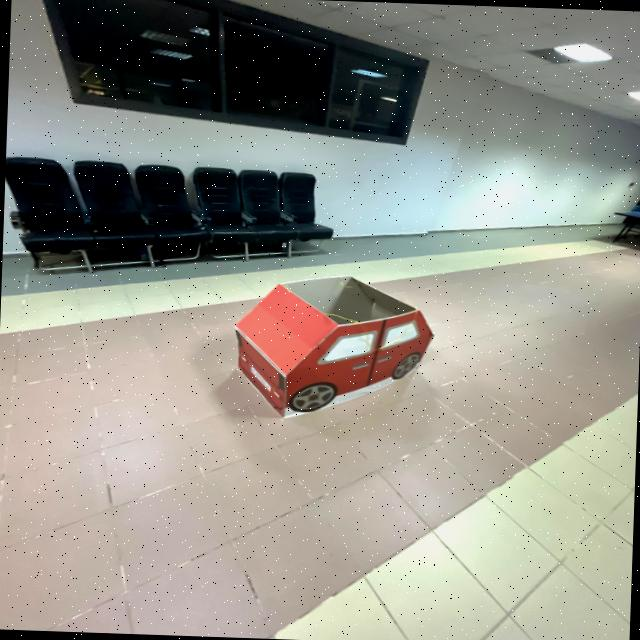red_car: (208, 262, 460, 439)
